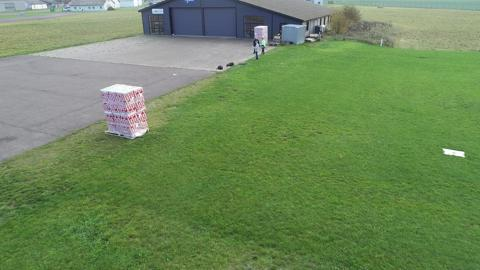RockwoolPallet: (100, 83, 149, 140)
